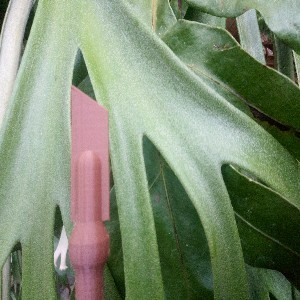cutter: (67, 84, 112, 300)
